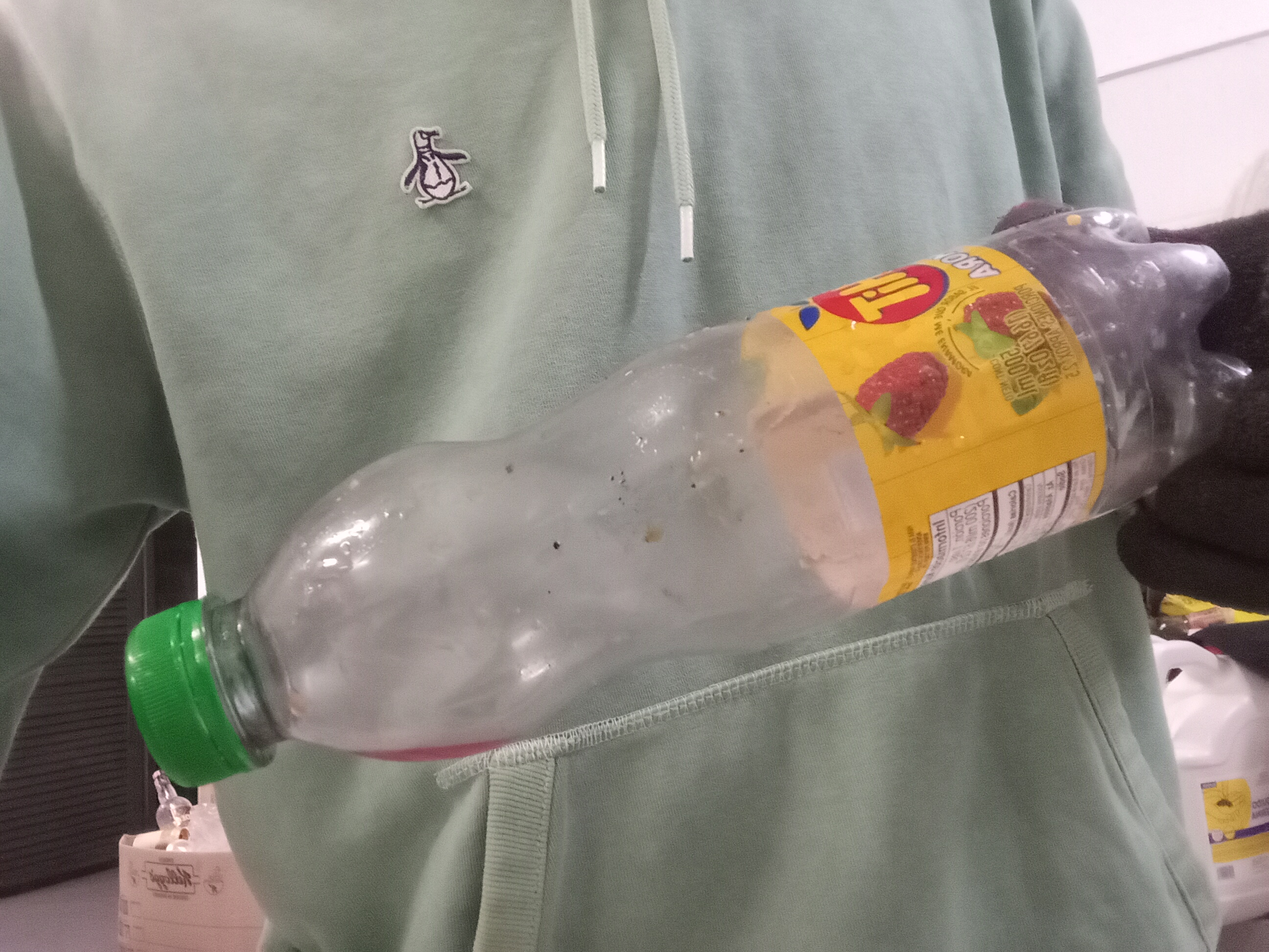Plastico: (125, 204, 1257, 787)
